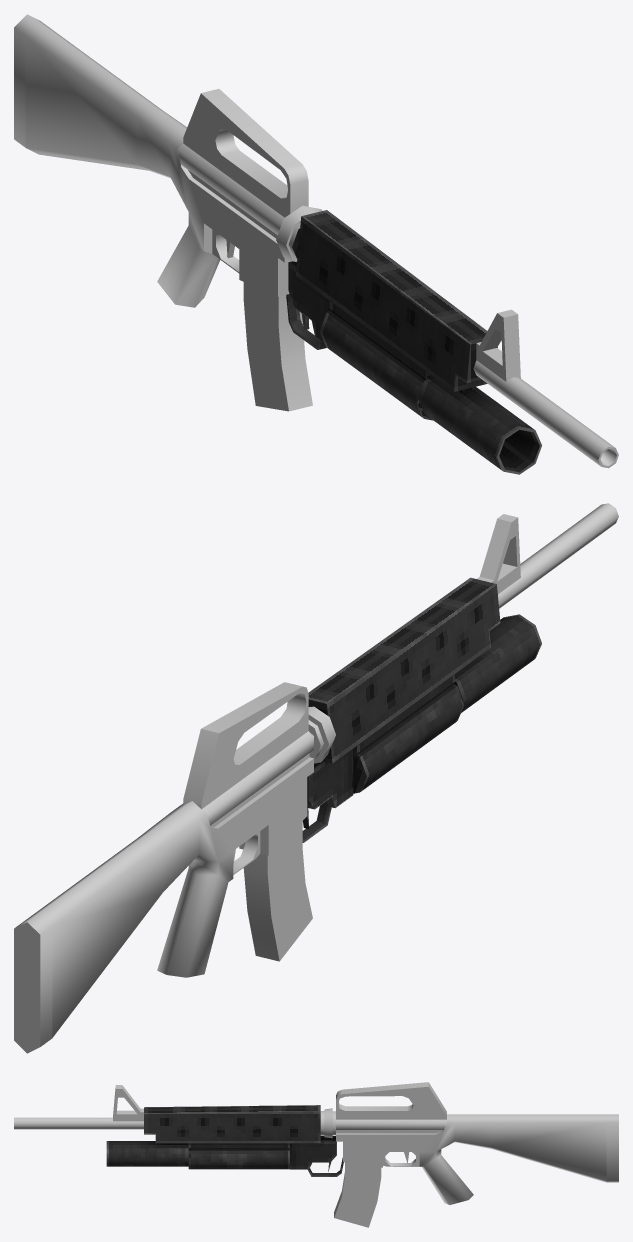
The picture shows the model from 3 angles, top to bottom: view 1: azimuth 30°, elevation 25°; view 2: azimuth 150°, elevation 25°; view 3: azimuth 270°, elevation 25°; orthographic projection. The views are drawn at different scales.
Parts seen in each view (by area): view 1: M16GL; view 2: M16GL; view 3: M16GL.
Boxes of the visible parts, box(x1,y1,x2,y2) form: M16GL: box(14, 14, 618, 474); M16GL: box(14, 503, 618, 1053); M16GL: box(14, 1082, 618, 1227).
Bounding box in the file's own units: 5.55 × 26.92 × 105.
